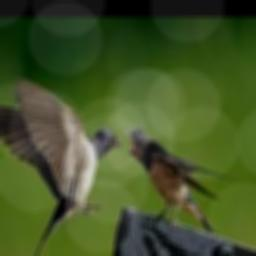Swallow: (0, 76, 121, 256), (125, 127, 234, 235)
